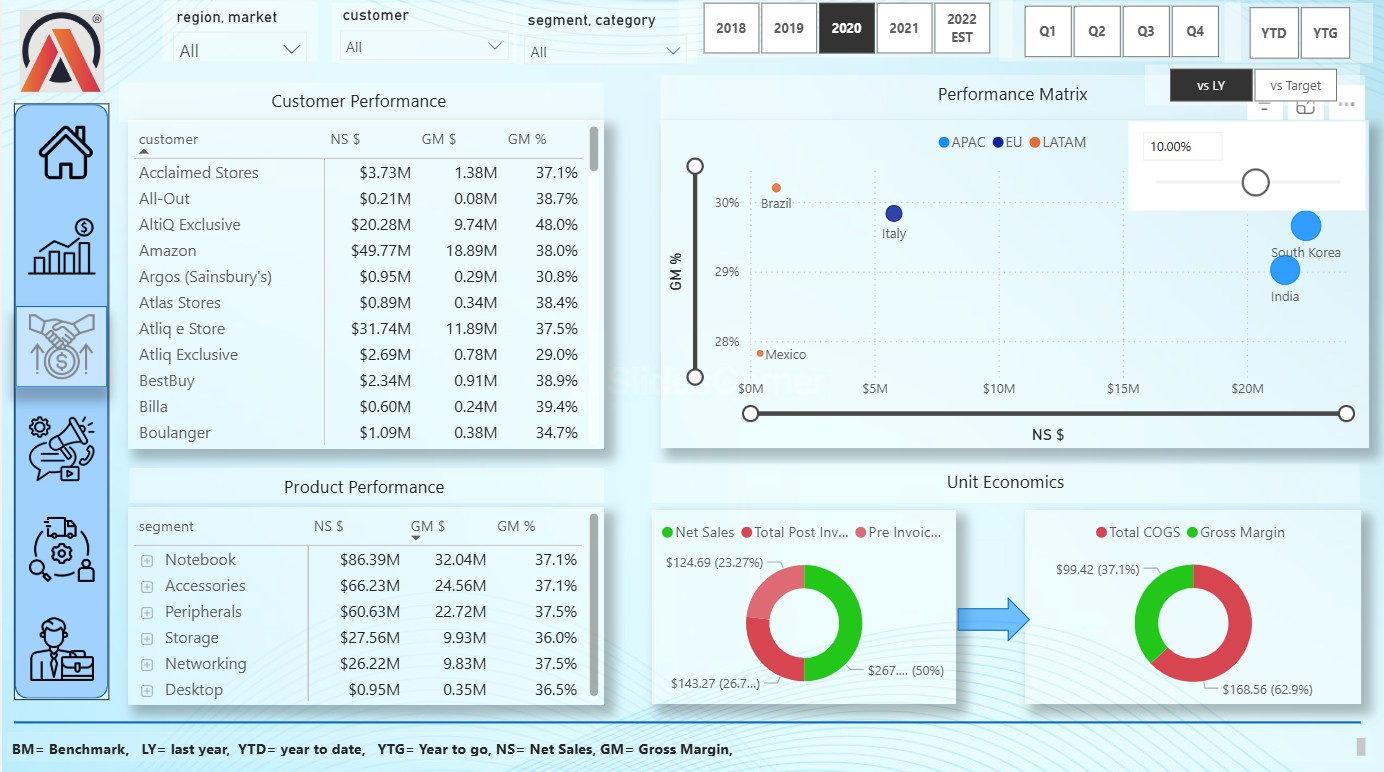

The dashboard page shown, as its layout file describes it:
{"tool":"powerbi","page":{"name":"Sales View ","canvas":[1280,720],"ordinal":2},"visuals":[{"type":"slicer","fields":{"Values":["fiscal_year.FY_description"]},"box":[625.6,4.8,308.8,54.4],"z":0},{"type":"slicer","fields":{"Values":["dim_date.fy_quarter"]},"box":[921.4,6.3,223.7,55.1],"z":1000},{"type":"slicer","fields":{"Values":["dim_date.YTD_YTG"]},"box":[1129.3,7.9,137,55.1],"z":2000},{"type":"scatterChart","fields":{"Category":["dim_market.market","dim_customer.customer"],"X":["Key Measures.NS $"],"Series":["dim_market.region"],"Size":["Key Measures.NS $"],"Y":["Key Measures.GM %"]},"box":[608.5,115.9,654.8,303.3],"z":3000},{"type":"slicer","fields":{"Values":["dim_market.region","dim_market.market"]},"box":[148.1,6.3,143.3,55.1],"z":4000},{"type":"slicer","fields":{"Values":["dim_product.segment","dim_product.category"]},"box":[472.5,9.5,170.1,55.1],"z":5000},{"type":"slicer","fields":{"Values":["dim_customer.customer"]},"box":[305.6,7.9,170.1,55.1],"z":6000},{"type":"textbox","box":[108.8,81.6,448,36.8],"z":7000},{"type":"image","box":[11,9.5,88.2,86.6],"z":8000},{"type":"shape","box":[11,100.8,88.2,551.3],"z":9000},{"type":"image","box":[17.7,116.6,81.9,59.9],"z":10000},{"type":"image","box":[15.8,196.9,80.3,72.5],"z":11000},{"type":"image","box":[15.8,289.8,80.3,72.5],"z":12000},{"type":"image","box":[15.8,384.3,80.3,72.5],"z":13000},{"type":"image","box":[15.8,477.2,80.3,72.5],"z":14000},{"type":"image","box":[15.8,570.2,80.3,70.9],"z":15000},{"type":"shape","box":[12.8,288,84.8,75.2],"z":16000},{"type":"textbox","box":[608,75.2,651.2,41.6],"z":17000},{"type":"textbox","box":[600.3,434,654.4,36.5],"z":18000},{"type":"pivotTable","fields":{"Rows":["dim_customer.customer"],"Values":["Key Measures.NS $","Key Measures.GM $","Key Measures.GM %"]},"box":[116.8,116.8,440,304],"z":19000},{"type":"pivotTable","fields":{"Rows":["dim_product.segment","dim_product.category","dim_product.product"],"Values":["Key Measures.NS $","Key Measures.GM $","Key Measures.GM %"]},"box":[116.8,473.6,440,182.4],"z":20000},{"type":"textbox","box":[118.4,438.4,438.4,32],"z":21000},{"type":"donutChart","fields":{"Y":["Key Measures.P&L Values"],"Category":["P&L Rows.Description"]},"box":[600,476.8,281.6,179.2],"z":22000},{"type":"donutChart","fields":{"Y":["Key Measures.P&L Values"],"Category":["P&L Rows.Description"]},"box":[945.6,476.8,310.4,179.2],"z":23000},{"type":"shape","box":[883.2,556.8,67.2,41.6],"z":24000},{"type":"slicer","fields":{"Values":["Target Gap Tolerance.Target Gap Tolerance"]},"box":[1041.2,118.4,218.6,82],"z":25000},{"type":"slicer","fields":{"Values":["Set BM.Benchmarks"]},"box":[1056.5,65.2,198.6,37.7],"z":26000},{"type":"shape","box":[10.8,650.2,1244.9,46],"z":27000},{"type":"textbox","box":[4.1,682.6,1261.2,27],"z":28000}]}

Visuals, with their boxes in screenshot pixels (x1, y1, x2, y2), scaled from the page's 1280x720 canvas onto the 1384x772 screenshot:
slicer - fiscal_year.FY_description: bbox=(676, 5, 1010, 63)
slicer - dim_date.fy_quarter: bbox=(996, 7, 1238, 66)
slicer - dim_date.YTD_YTG: bbox=(1221, 8, 1369, 68)
scatterChart - dim_market.market x dim_customer.customer: bbox=(658, 124, 1366, 449)
slicer - dim_market.region x dim_market.market: bbox=(160, 7, 315, 66)
slicer - dim_product.segment x dim_product.category: bbox=(511, 10, 695, 69)
slicer - dim_customer.customer: bbox=(330, 8, 514, 68)
textbox: bbox=(118, 87, 602, 127)
image: bbox=(12, 10, 107, 103)
shape: bbox=(12, 108, 107, 699)
image: bbox=(19, 125, 108, 189)
image: bbox=(17, 211, 104, 289)
image: bbox=(17, 311, 104, 388)
image: bbox=(17, 412, 104, 490)
image: bbox=(17, 512, 104, 589)
image: bbox=(17, 611, 104, 687)
shape: bbox=(14, 309, 106, 389)
textbox: bbox=(657, 81, 1362, 125)
textbox: bbox=(649, 465, 1357, 504)
pivotTable - dim_customer.customer x Key Measures.NS $: bbox=(126, 125, 602, 451)
pivotTable - dim_product.segment x dim_product.category: bbox=(126, 508, 602, 703)
textbox: bbox=(128, 470, 602, 504)
donutChart - Key Measures.P&L Values x P&L Rows.Description: bbox=(649, 511, 953, 703)
donutChart - Key Measures.P&L Values x P&L Rows.Description: bbox=(1022, 511, 1358, 703)
shape: bbox=(955, 597, 1028, 642)
slicer - Target Gap Tolerance.Target Gap Tolerance: bbox=(1126, 127, 1362, 215)
slicer - Set BM.Benchmarks: bbox=(1142, 70, 1357, 110)
shape: bbox=(12, 697, 1358, 746)
textbox: bbox=(4, 732, 1368, 761)
